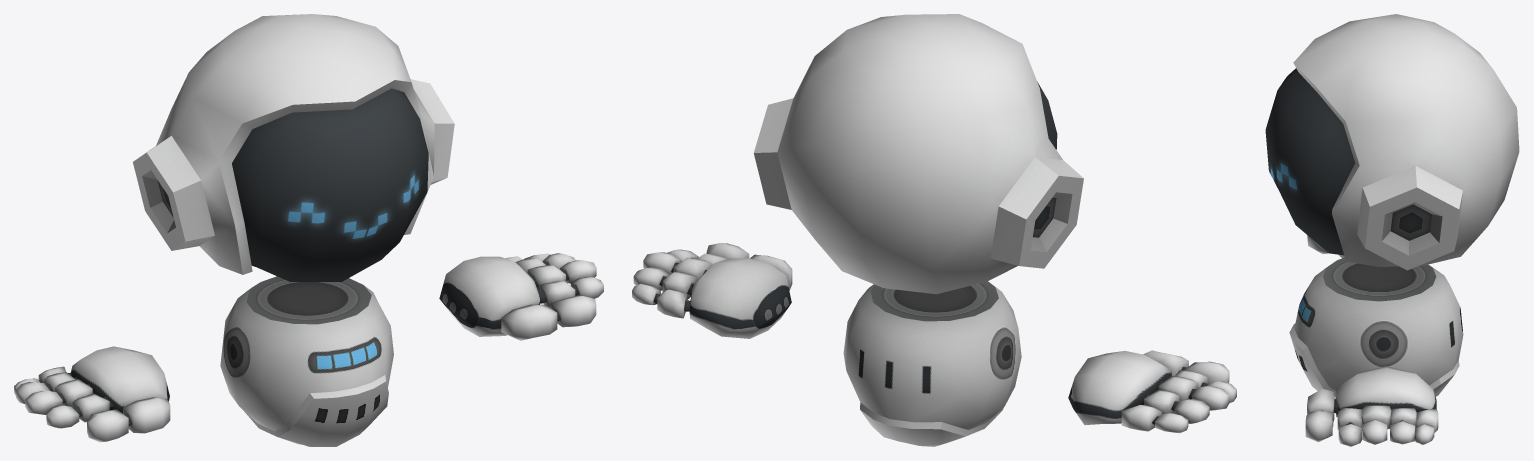
Rendered from round-robot-avatar.glb.
The picture shows the model from 3 angles, left to right: view 1: azimuth 30°, elevation 25°; view 2: azimuth 150°, elevation 25°; view 3: azimuth 270°, elevation 25°; orthographic projection. The views are drawn at different scales.
Parts seen in each view (by area): view 1: Round_Robot_mesh; view 2: Round_Robot_mesh; view 3: Round_Robot_mesh.
Boxes of the visible parts, box(x1,y1,x2,y2) form: Round_Robot_mesh: box(14, 14, 603, 446); Round_Robot_mesh: box(632, 14, 1236, 446); Round_Robot_mesh: box(1265, 14, 1519, 446).
Size of what is drawn, in the model's own units: 1.69 by 1.15 by 0.7124.
Materials: 1 (1 with a texture image).
